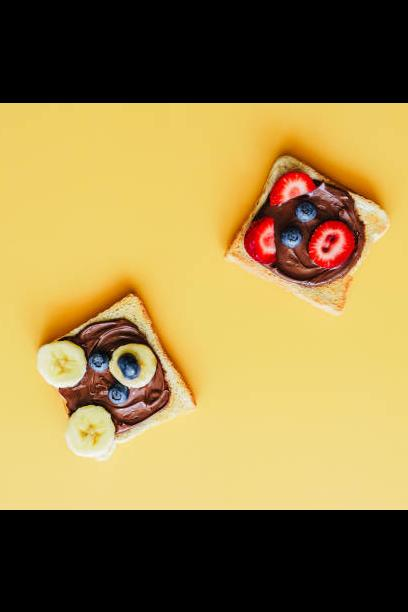Non_Gorille: (0, 125, 408, 465)
